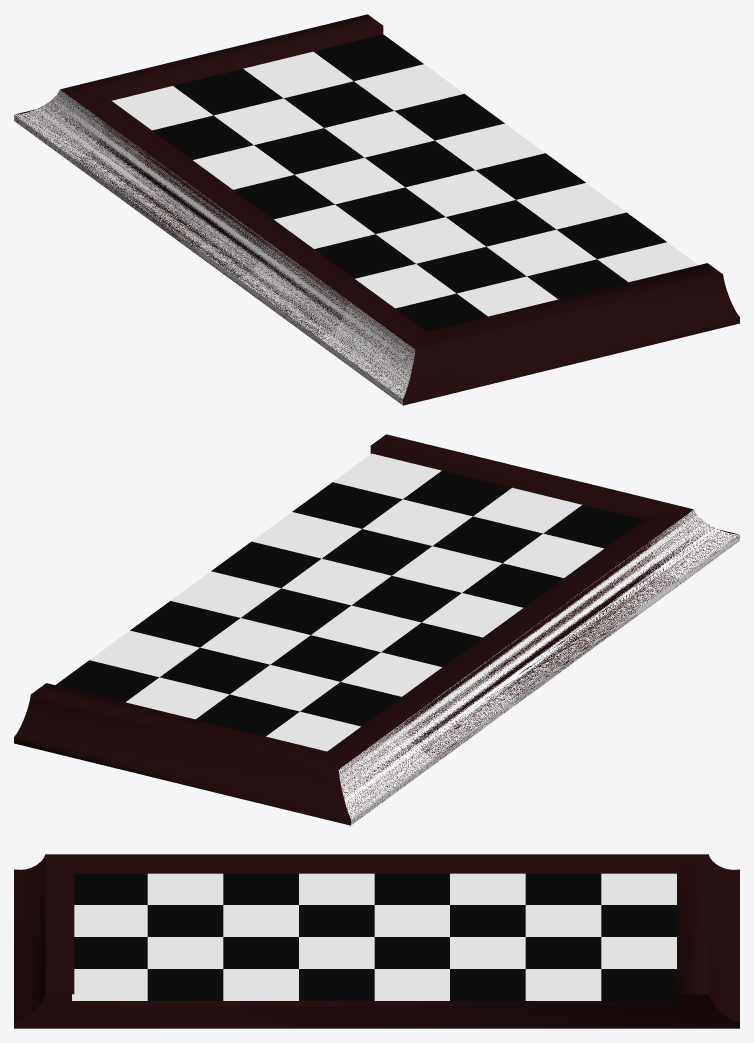
Rendered from ChessBoardhalf.fbx.
3 views of the same model, one above another, from view 1: azimuth 30°, elevation 25°; view 2: azimuth 150°, elevation 25°; view 3: azimuth 270°, elevation 25° (orthographic). The views are drawn at different scales.
Parts seen in each view (by area): view 1: Chess Board Play Surface; view 2: Chess Board Play Surface; view 3: Chess Board Play Surface.
Boxes of the visible parts, x1,y1,x2,y2 form: Chess Board Play Surface: [14, 14, 739, 405]; Chess Board Play Surface: [14, 434, 739, 825]; Chess Board Play Surface: [14, 854, 739, 1028].
Bounding box in the file's own units: 2880 × 300 × 5759.
